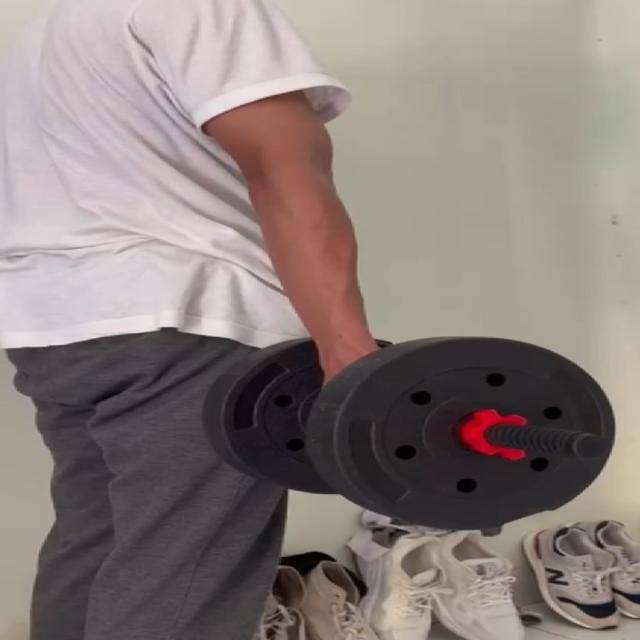dumbbell: (201, 333, 616, 524)
